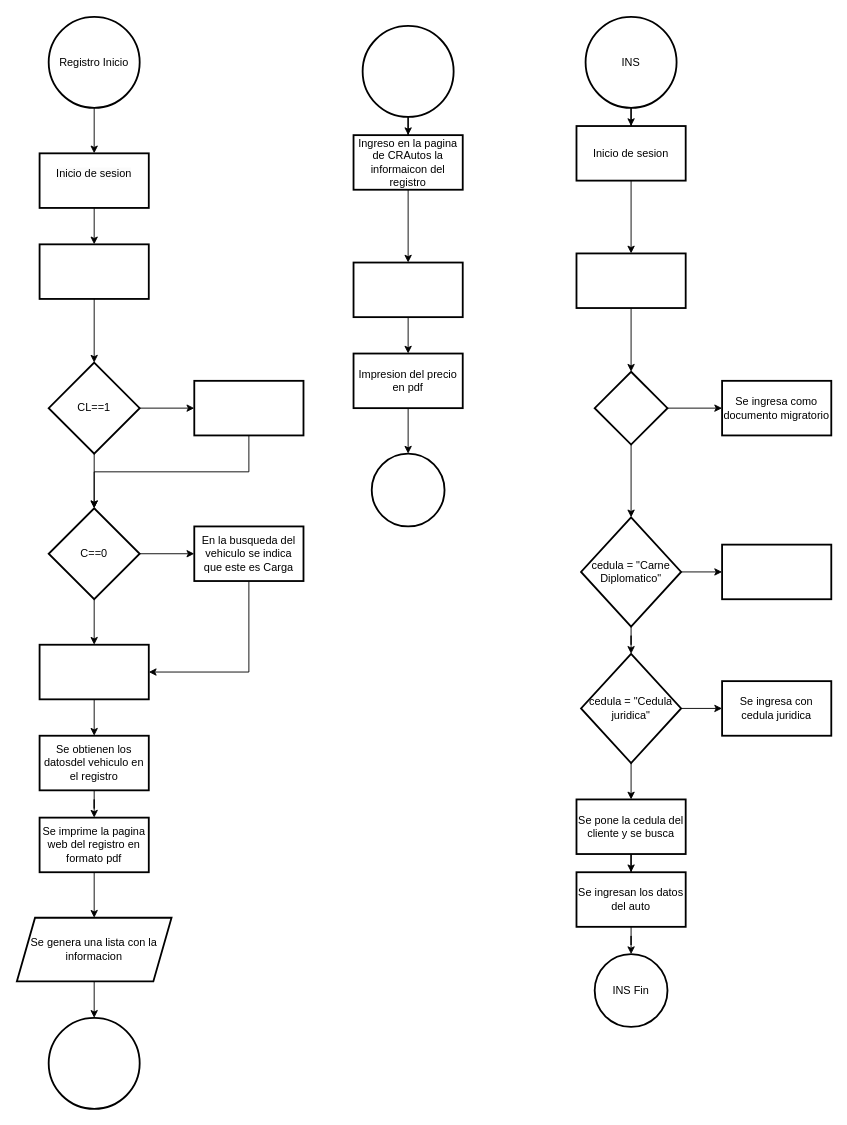
Image size: 847x1125. Some labels were removed from this diagram. The centre of each missing label's shape, as x and y in pixels:
cedula = "Dimex": [630,407]
CRAutos Fin: [407,489]
CRAutos Inicio: [407,71]
En la busqueda del vehiculo se indica que este es Carga Liviana: [248,407]
Espera a que el usuario final salte el captcha: [407,289]
Ingreso a la seccion de consulta de vehiculo: [93,271]
Ingreso a la seccion de cotizar vehiculo: [630,280]
Registro Fin: [93,1062]
Se ingresa con carne diplomatico: [776,571]
Se ingresa la placa y se busca el vehiculo: [93,671]
